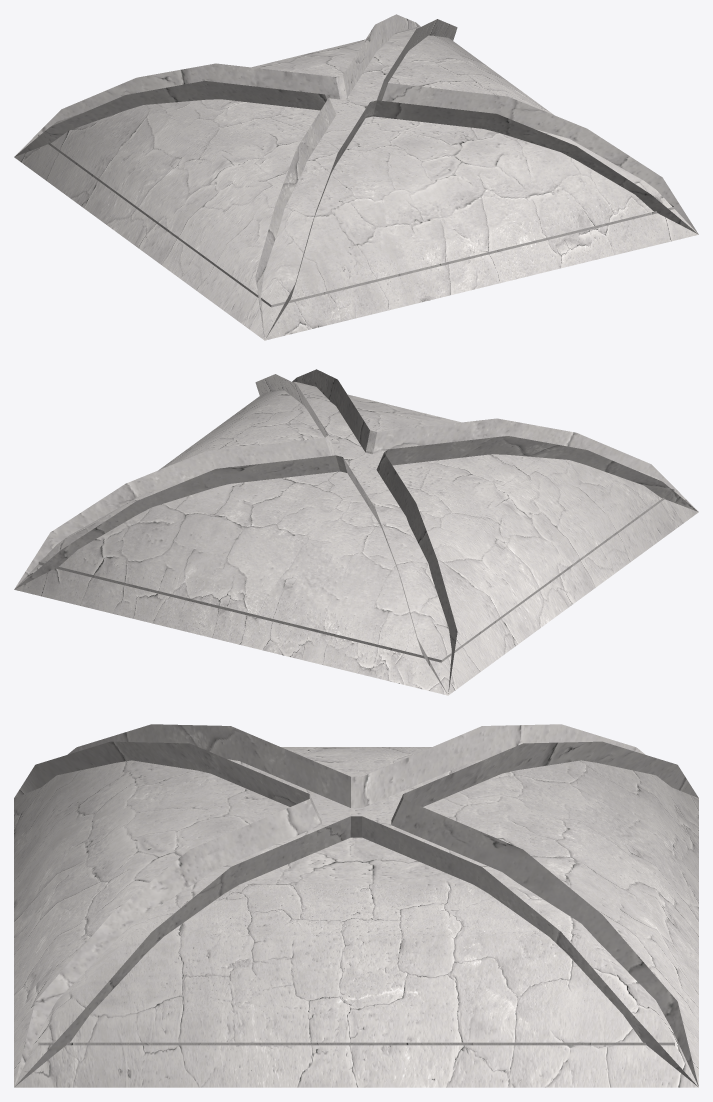
Rendered from Ceiling_C.fbx.
3 views of the same model, one above another, from view 1: azimuth 30°, elevation 25°; view 2: azimuth 150°, elevation 25°; view 3: azimuth 270°, elevation 25° (orthographic). The views are drawn at different scales.
Visible parts, largest first — view 1: Ceiling_C; view 2: Ceiling_C; view 3: Ceiling_C.
Part boxes in pixels (left/top/right/bottom): Ceiling_C: left=14, top=14, right=698, bottom=340; Ceiling_C: left=14, top=369, right=698, bottom=695; Ceiling_C: left=14, top=724, right=698, bottom=1087.
Bounding box in the file's own units: 2.7 × 0.643 × 2.7.
